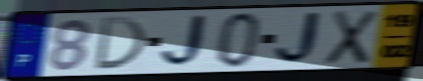0: (213, 11, 263, 70)
8: (49, 17, 94, 72)
D: (91, 16, 149, 72)
J: (272, 10, 328, 67), (158, 13, 214, 70)
X: (323, 9, 380, 67)
